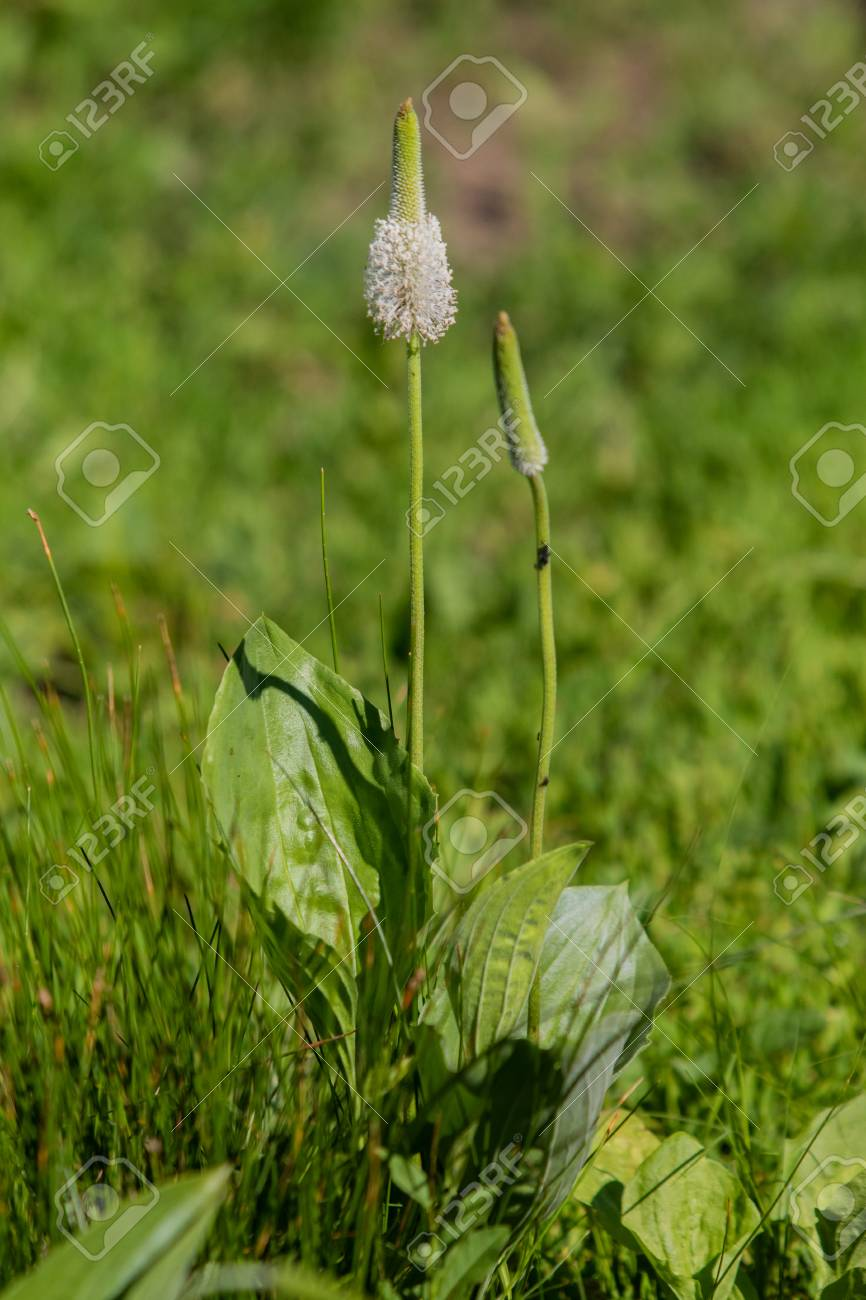buckhorn plantain: (238, 87, 658, 1146)
